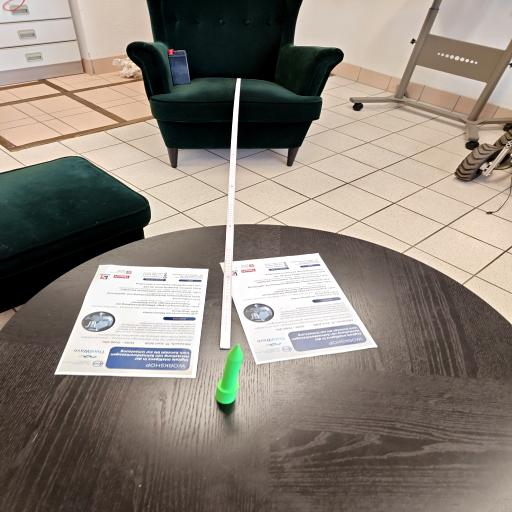Probe-Detection: (214, 344, 243, 403)
